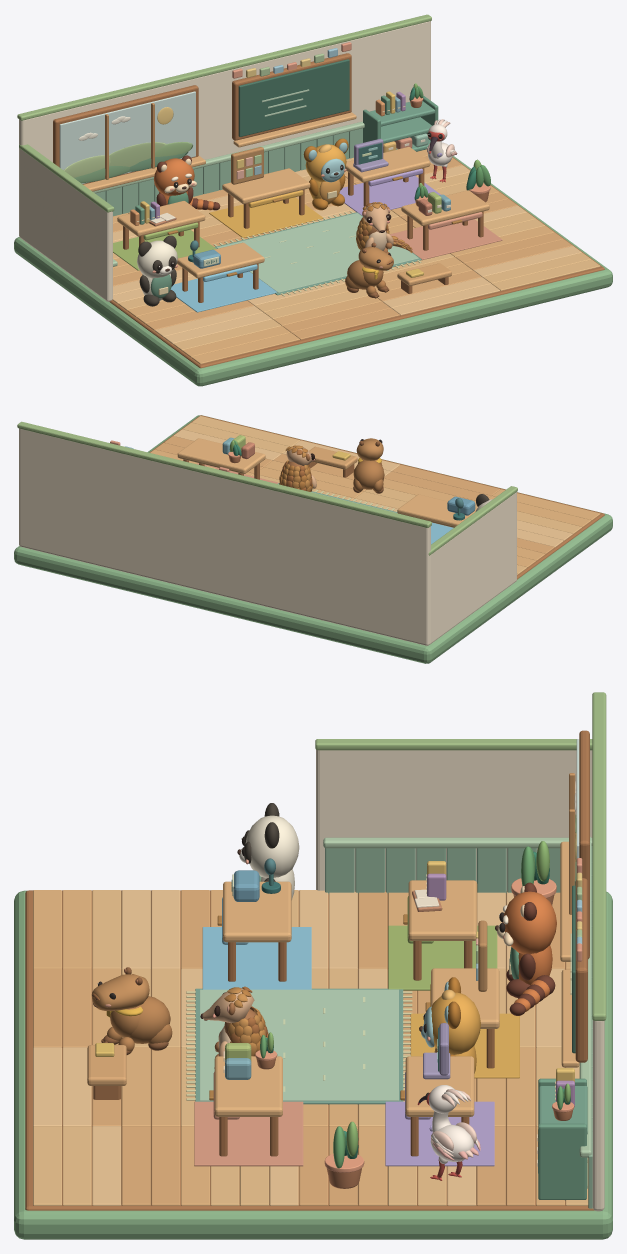
Rendered from classroom.glb.
3 views of the same model, one above another, from view 1: azimuth 30°, elevation 25°; view 2: azimuth 150°, elevation 25°; view 3: azimuth 270°, elevation 25° (orthographic). The views are drawn at different scales.
Visible parts, largest first — view 1: Back wall, Rounded foundation, Left cutaway wall, Rug center, Chalkboard, Sky, Back trim, Walnut floor inlay, Pastel floor mat.002, Pastel floor mat, Pastel floor mat.004, Pastel floor mat.003 (+44 smaller); view 2: Back wall, Rounded foundation, Left cutaway wall, Back trim, Writing desk top.004, Writing desk top, Walnut floor inlay, Maple floorboard.073, Maple floorboard.075, Left trim, Maple floorboard.069, Maple floorboard.071 (+16 smaller); view 3: Rounded foundation, Left cutaway wall, Rug center, Walnut floor inlay, Pastel floor mat.004, Pastel floor mat, Back trim, Pastel floor mat.003, Shelf side.001, Pastel floor mat.001, Writing desk top, Writing desk top.001 (+71 smaller).
Part boxes in pixels (x1=…): Back wall: x1=19, y1=21, x2=430, y2=236; Rounded foundation: x1=14, y1=155, x2=612, y2=386; Left cutaway wall: x1=19, y1=148, x2=112, y2=301; Rug center: x1=216, y1=213, x2=418, y2=292; Chalkboard: x1=238, y1=59, x2=349, y2=136; Sky: x1=59, y1=91, x2=195, y2=183; Back trim: x1=17, y1=14, x2=431, y2=120; Walnut floor inlay: x1=109, y1=157, x2=604, y2=368; Pastel floor mat.002: x1=209, y1=197, x2=322, y2=237; Pastel floor mat: x1=170, y1=271, x2=276, y2=312; Pastel floor mat.004: x1=390, y1=219, x2=502, y2=260; Pastel floor mat.003: x1=339, y1=175, x2=440, y2=215; Back wall: x1=19, y1=428, x2=430, y2=645; Rounded foundation: x1=14, y1=415, x2=612, y2=663; Left cutaway wall: x1=429, y1=492, x2=516, y2=644; Back trim: x1=17, y1=421, x2=431, y2=527; Writing desk top.004: x1=177, y1=438, x2=265, y2=473; Writing desk top: x1=397, y1=494, x2=476, y2=527; Walnut floor inlay: x1=149, y1=415, x2=604, y2=579; Maple floorboard.073: x1=392, y1=465, x2=500, y2=495; Maple floorboard.075: x1=192, y1=416, x2=299, y2=446; Left trim: x1=428, y1=486, x2=517, y2=555; Maple floorboard.069: x1=384, y1=471, x2=490, y2=500; Maple floorboard.071: x1=183, y1=422, x2=290, y2=453; Rounded foundation: x1=14, y1=890, x2=612, y2=1239; Left cutaway wall: x1=316, y1=750, x2=592, y2=890; Rug center: x1=200, y1=989, x2=398, y2=1100; Walnut floor inlay: x1=25, y1=890, x2=594, y2=1210; Pastel floor mat.004: x1=194, y1=1101, x2=303, y2=1166; Pastel floor mat: x1=202, y1=927, x2=311, y2=989; Back trim: x1=592, y1=692, x2=606, y2=1020; Pastel floor mat.003: x1=385, y1=1101, x2=494, y2=1166; Shelf side.001: x1=538, y1=1123, x2=586, y2=1200; Pastel floor mat.001: x1=388, y1=925, x2=497, y2=990; Writing desk top: x1=223, y1=881, x2=291, y2=942; Writing desk top.001: x1=408, y1=880, x2=477, y2=940.
Size of the model in its own units: 13.8 by 4.43 by 10.65.
